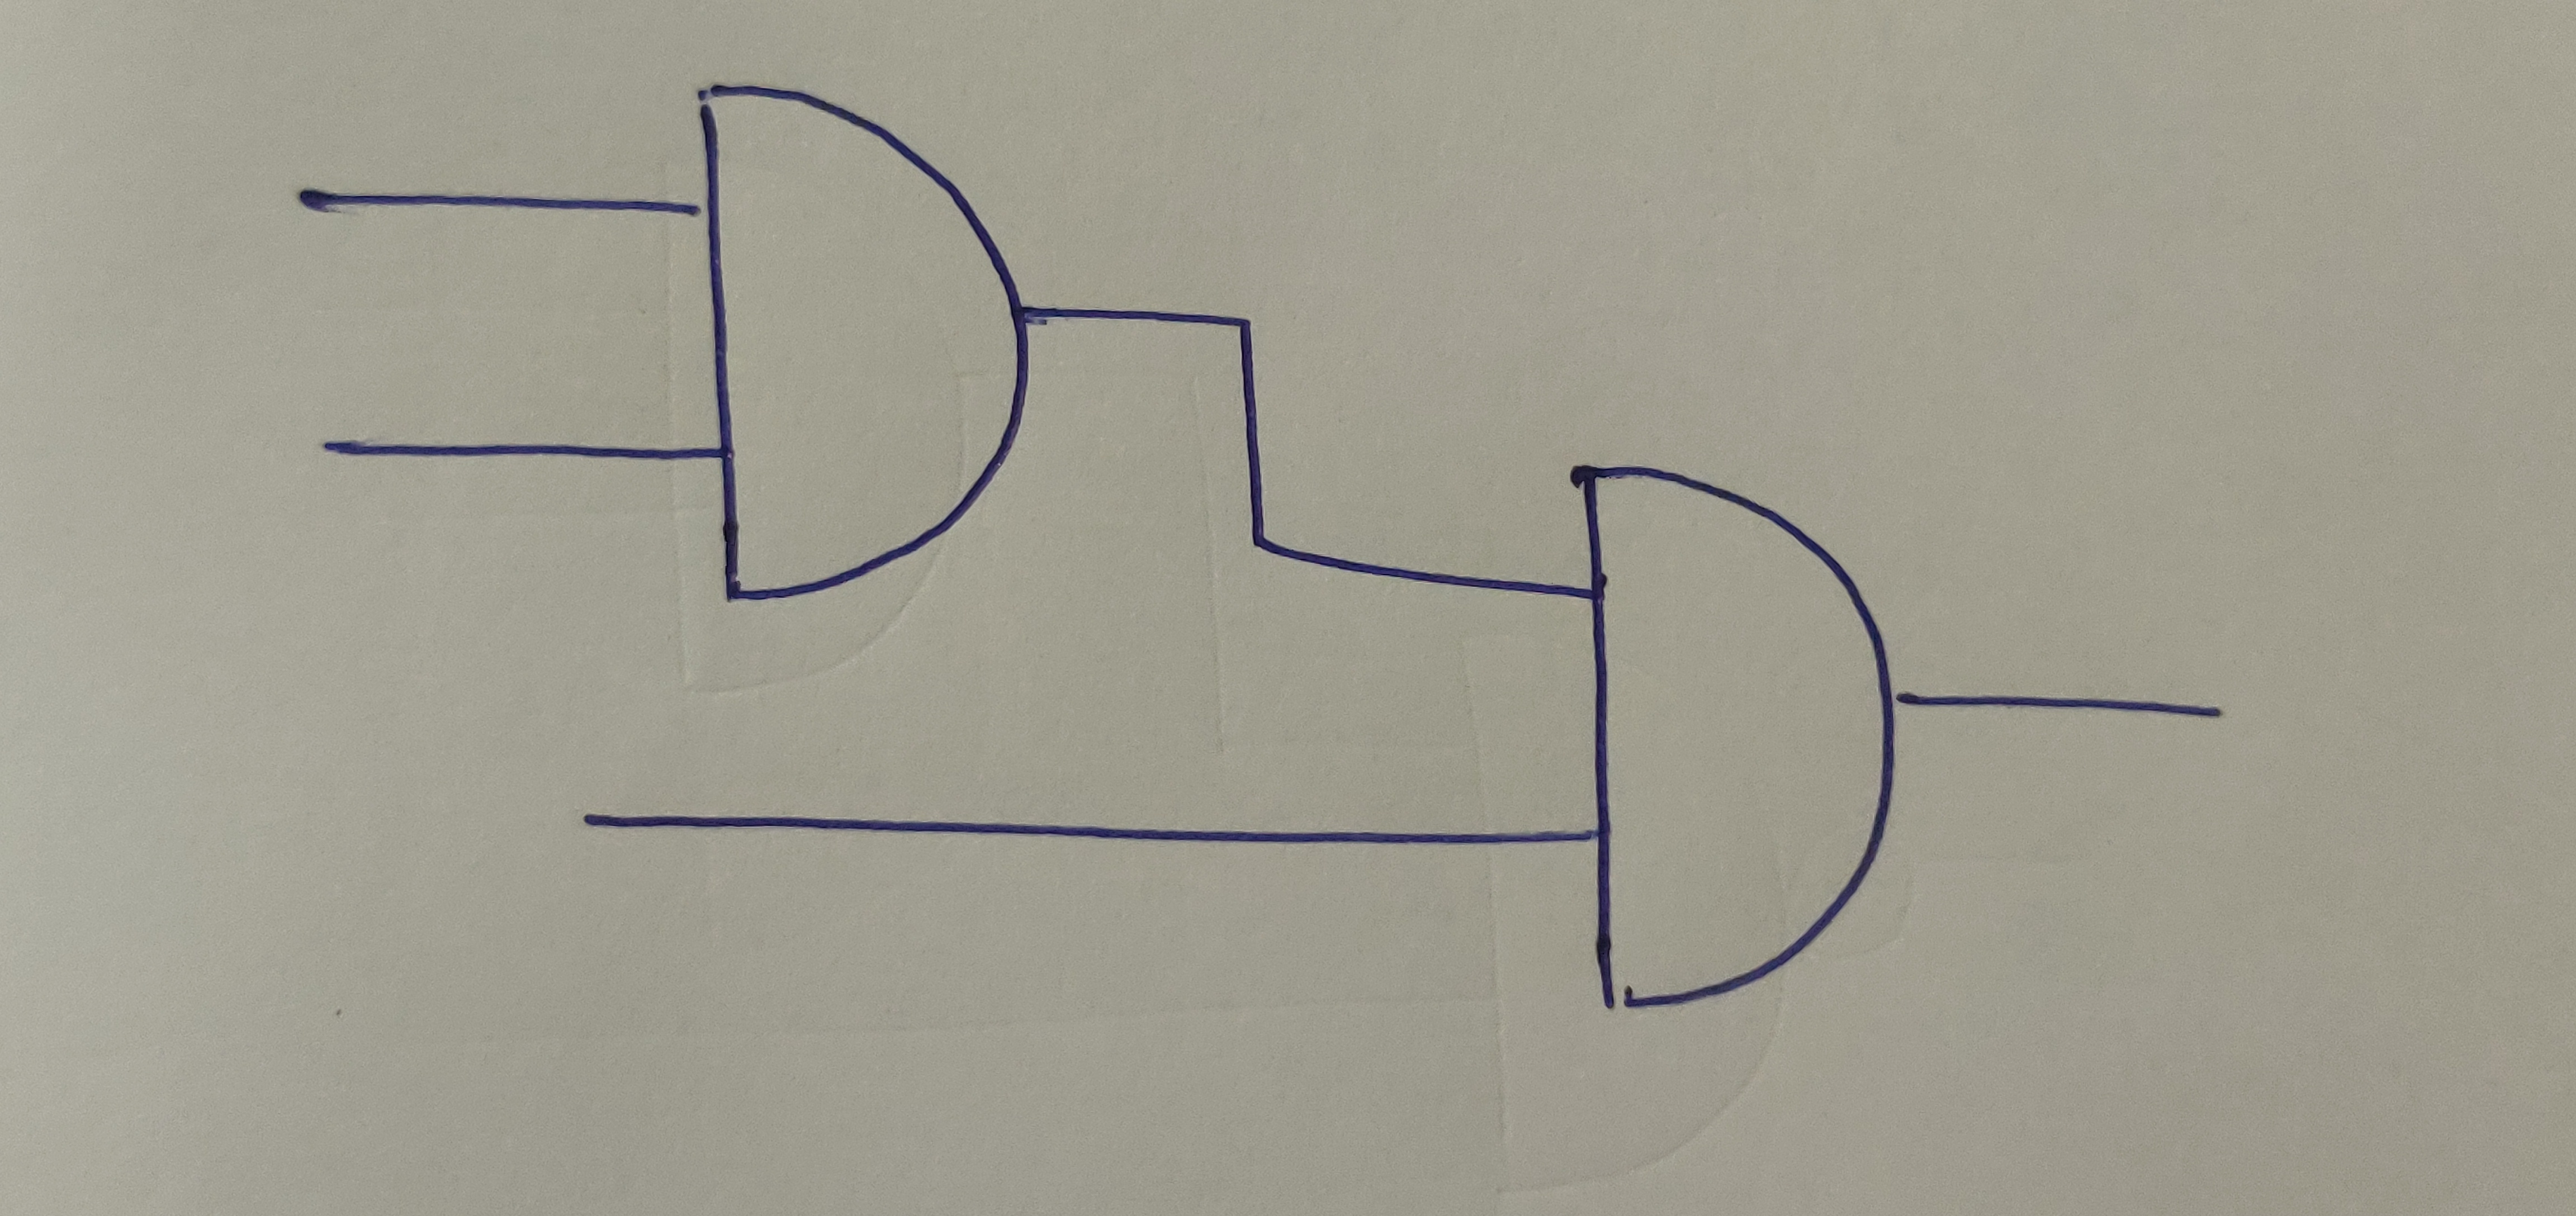and: (687, 79, 1032, 603), (1579, 460, 1896, 1007)
